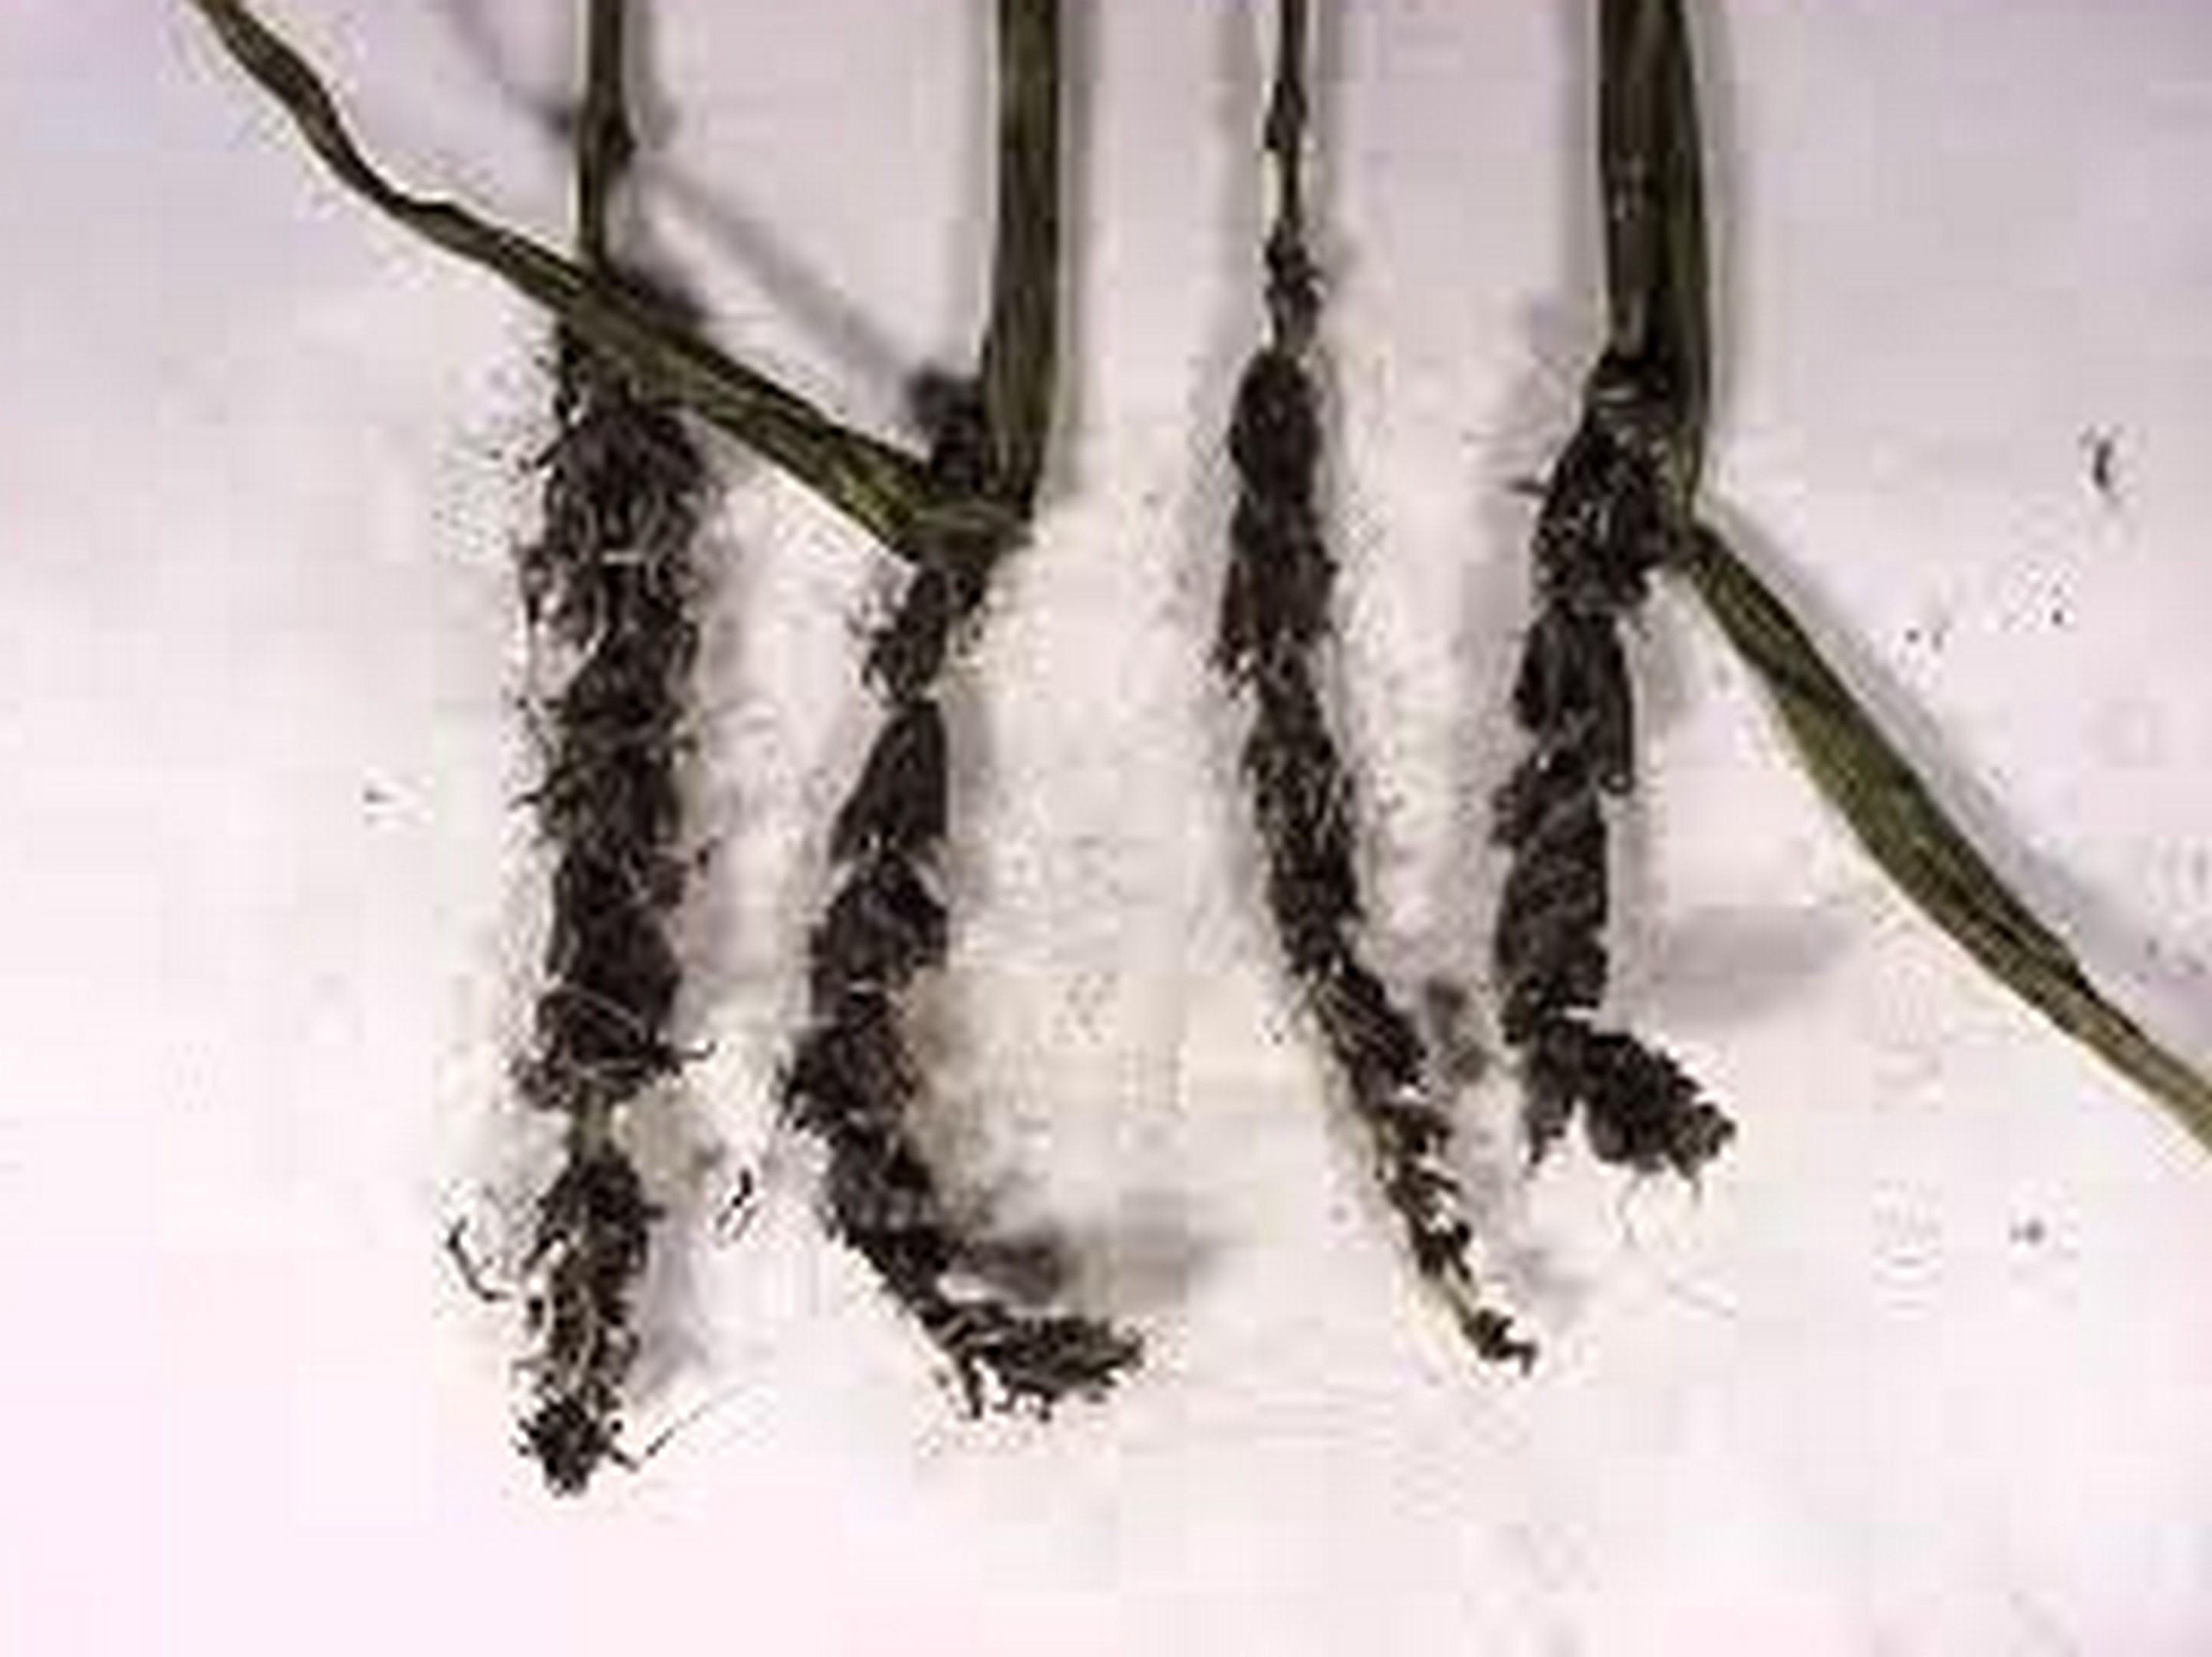Wheat Loose Smut: (426, 369, 1138, 1492), (1189, 315, 1744, 1337)
